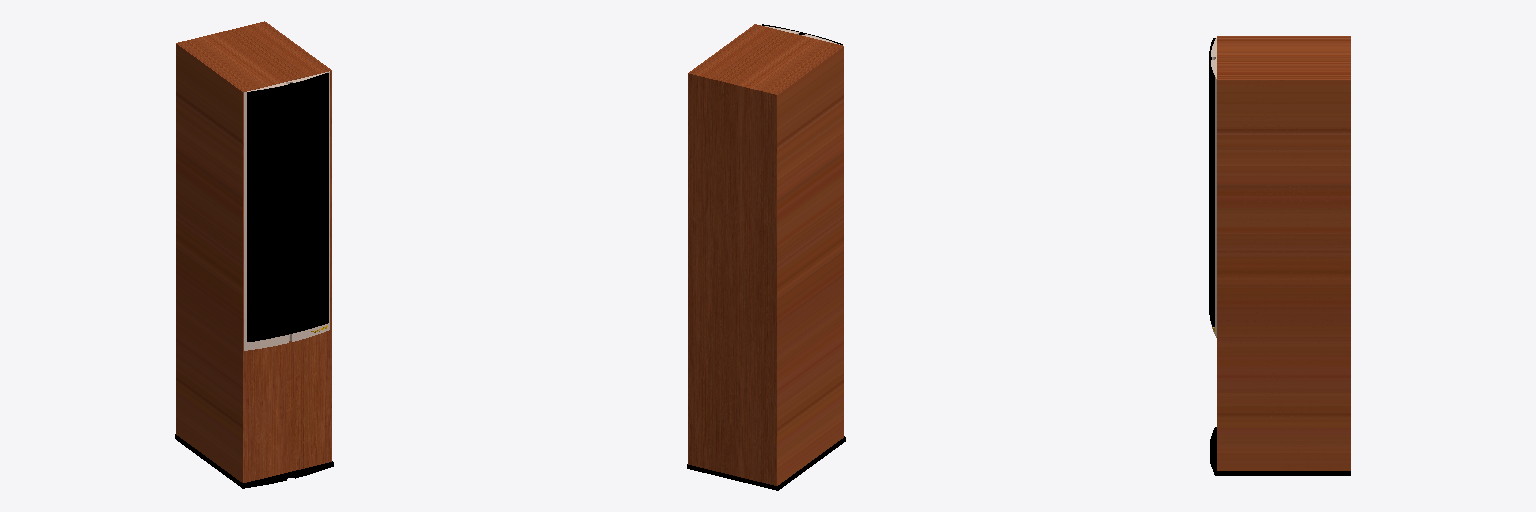
3 views of the same model, side by side, from view 1: azimuth 30°, elevation 25°; view 2: azimuth 150°, elevation 25°; view 3: azimuth 270°, elevation 25° (orthographic).
Parts seen in each view (by area): view 1: Cube_2_1, Boolean_6_2, Boolean_1_14, Boolean_10_3; view 2: Cube_2_1, Boolean_10_3; view 3: Cube_2_1, Boolean_6_2, Boolean_10_3, Boolean_1_14.
Boxes of the visible parts, x1,y1,x2,y2 form: Cube_2_1: [176, 21, 331, 482]; Boolean_6_2: [247, 73, 328, 341]; Boolean_1_14: [244, 71, 329, 350]; Boolean_10_3: [175, 434, 333, 488]; Cube_2_1: [688, 24, 843, 485]; Boolean_10_3: [687, 436, 845, 490]; Cube_2_1: [1217, 36, 1350, 470]; Boolean_6_2: [1209, 38, 1215, 326]; Boolean_10_3: [1210, 427, 1350, 475]; Boolean_1_14: [1211, 38, 1216, 337].
Bounding box in the file's own units: 22 × 91 × 29.62.
Materials: 4 (1 with a texture image).